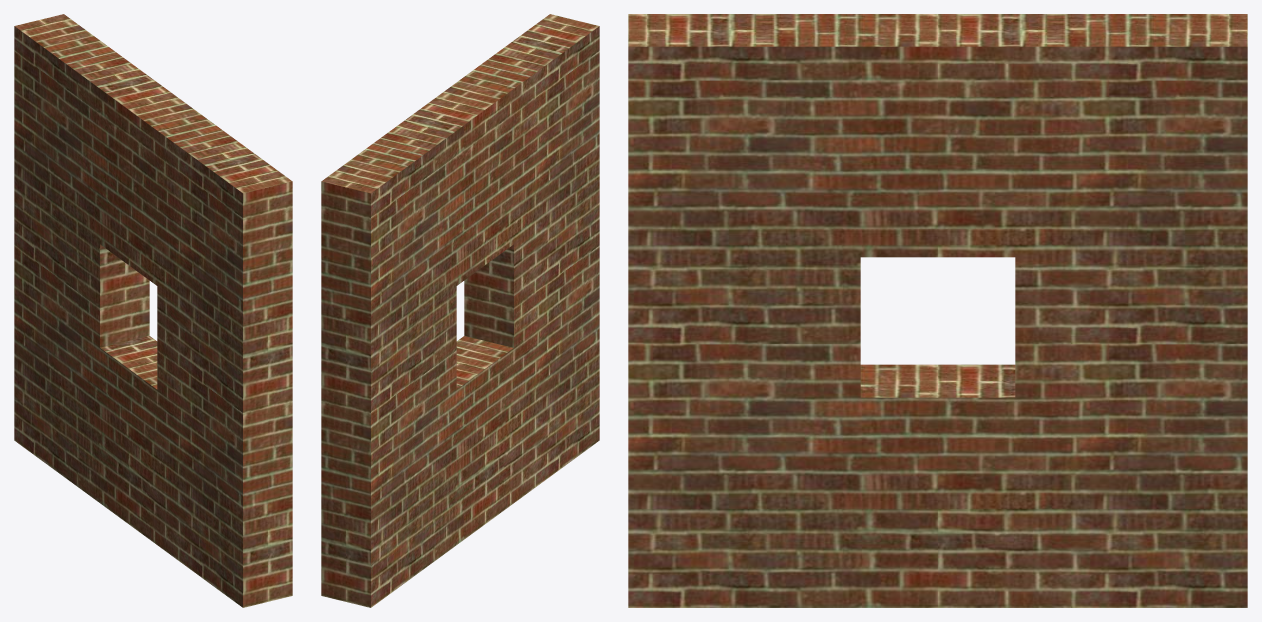
File: brick_wall_hole_4.dae
3 views of the same model, side by side, from view 1: azimuth 30°, elevation 25°; view 2: azimuth 150°, elevation 25°; view 3: azimuth 270°, elevation 25° (orthographic). The views are drawn at different scales.
Parts seen in each view (by area): view 1: SketchUp (×2); view 2: SketchUp (×2); view 3: SketchUp (×2).
Part boxes in pixels (<box>): SketchUp (×2): <box>14,14,292,607</box>; SketchUp (×2): <box>321,14,599,607</box>; SketchUp (×2): <box>628,14,1247,607</box>.
Size of the model in its own units: 9.84 by 78.74 by 78.74.
Materials: 1 (1 with a texture image).
